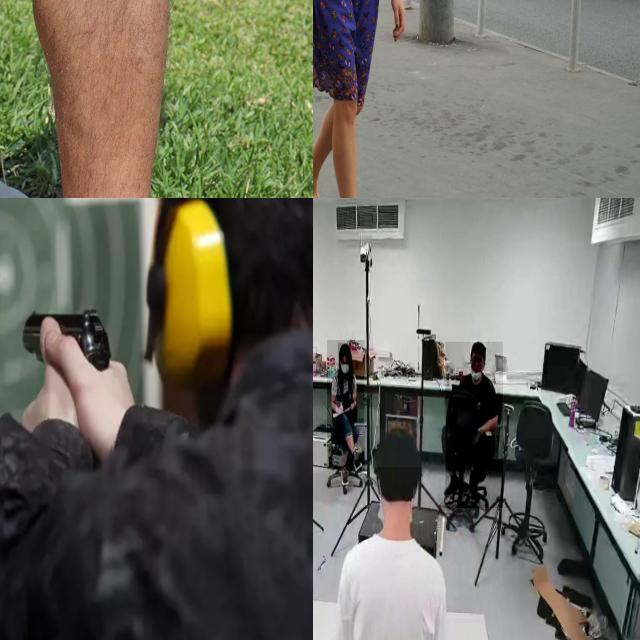Barefoots: (313, 147, 319, 198)
Ear-protection: (156, 198, 313, 442)
face_mask: (338, 353, 352, 381)
face_nomask: (471, 351, 483, 373)
hand_noglove: (348, 400, 356, 414), (336, 401, 344, 415)
head_nohelmet: (374, 428, 421, 467), (470, 341, 486, 352), (338, 343, 351, 354)
person: (337, 430, 455, 640), (446, 342, 504, 509), (327, 340, 365, 471)
